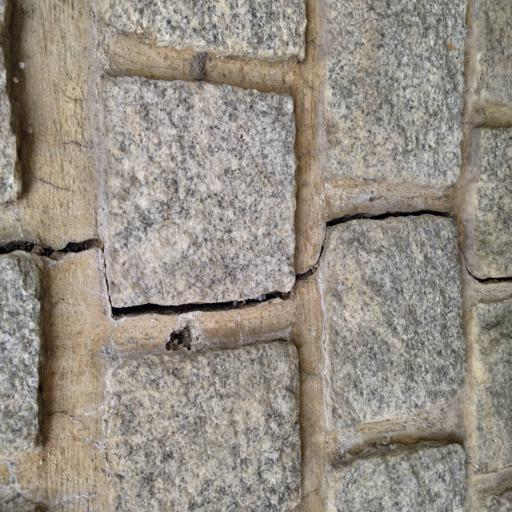major_crack: (0, 201, 512, 357)
